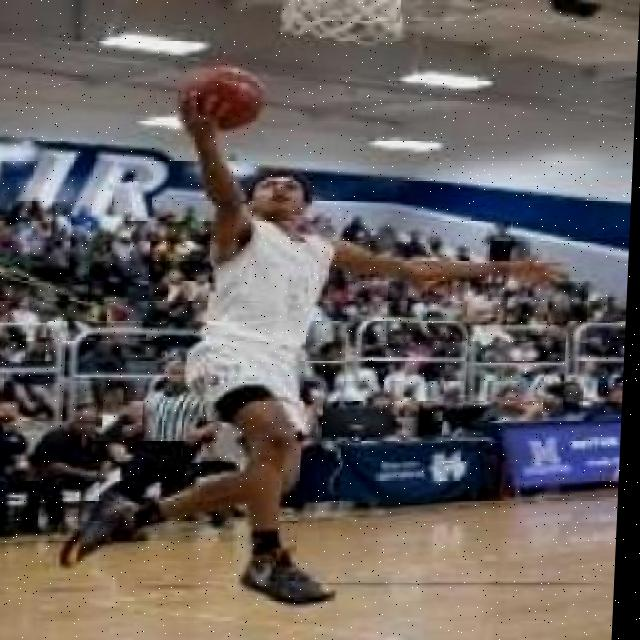basketball: (173, 63, 263, 139)
hoop: (273, 0, 407, 49)
